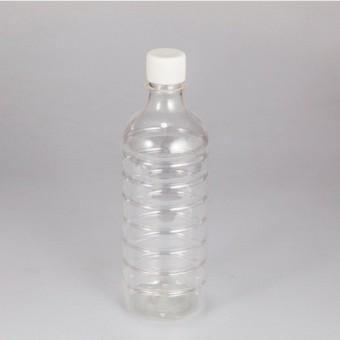plastic_bottle: (121, 42, 208, 320)
